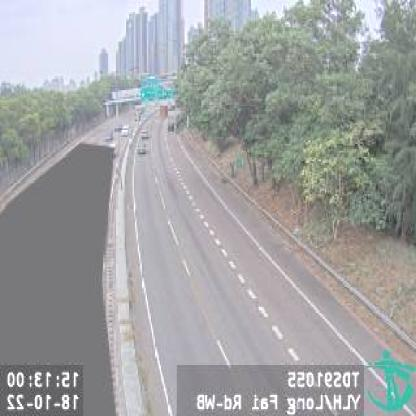Car: (135, 141, 148, 157), (120, 123, 130, 138), (139, 126, 149, 140)
